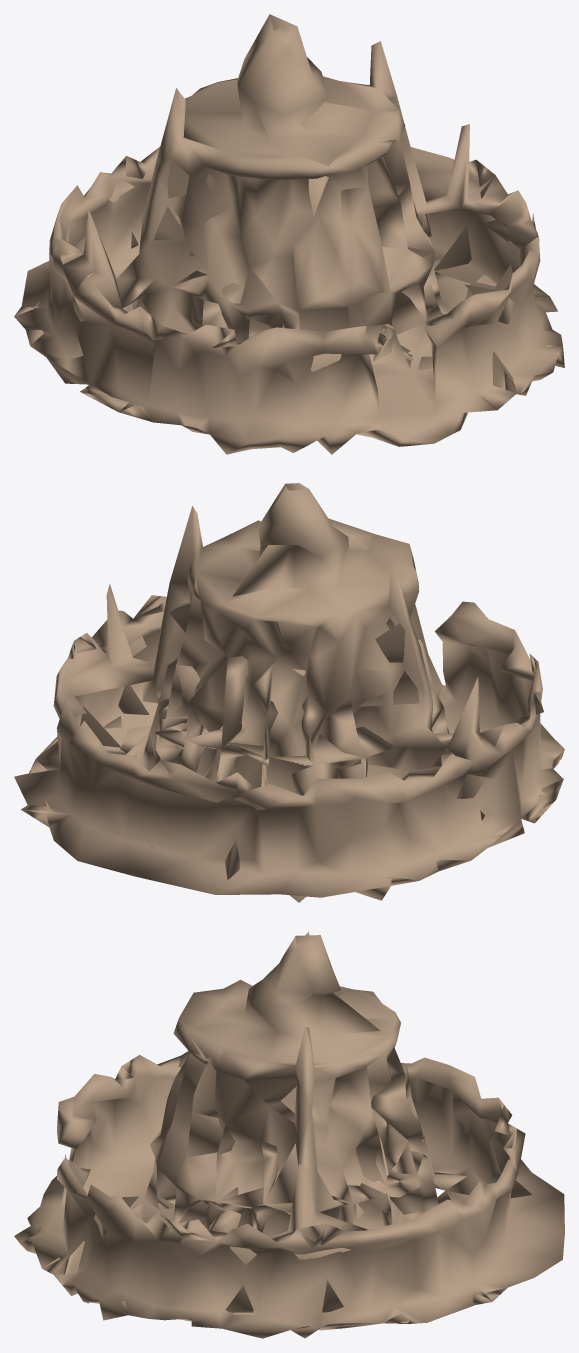
File: monumento_b.glb
3 renders of one model, top to bottom at view 1: azimuth 30°, elevation 25°; view 2: azimuth 150°, elevation 25°; view 3: azimuth 270°, elevation 25°, orthographic. The views are drawn at different scales.
Visible parts, largest first — view 1: monumento_b; view 2: monumento_b; view 3: monumento_b.
Boxes of the visible parts, x1,y1,x2,y2 form: monumento_b: (14, 14, 564, 454); monumento_b: (14, 483, 564, 902); monumento_b: (14, 931, 564, 1338).
Size of the model in its own units: 17.68 by 12.61 by 19.39.
